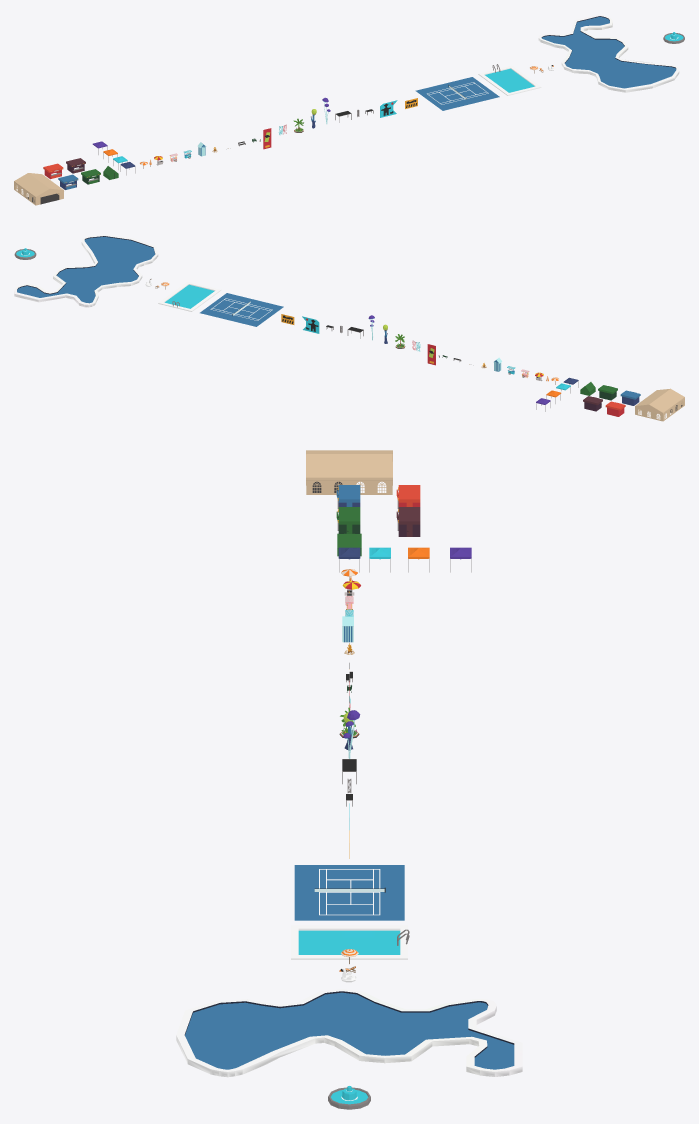
Rendered from scene-props.glb.
3 views of the same model, one above another, from view 1: azimuth 30°, elevation 25°; view 2: azimuth 150°, elevation 25°; view 3: azimuth 270°, elevation 25° (orthographic). The views are drawn at different scales.
Parts seen in each view (by area): view 1: resort-pool, pickleball-court, tent-party-big, tile-pool-small; view 2: resort-pool, pickleball-court, tent-party-big, tile-pool-small; view 3: resort-pool, pickleball-court, tile-pool-small, tent-party-big.
Boxes of the visible parts, left/top/right/bottom form: resort-pool: left=538, top=14, right=679, bottom=92; pickleball-court: left=415, top=77, right=499, bottom=110; tent-party-big: left=14, top=173, right=63, bottom=205; tile-pool-small: left=478, top=64, right=541, bottom=95; resort-pool: left=14, top=234, right=158, bottom=307; pickleball-court: left=200, top=293, right=283, bottom=326; tent-party-big: left=635, top=388, right=684, bottom=421; tile-pool-small: left=158, top=281, right=221, bottom=311; resort-pool: left=176, top=989, right=522, bottom=1077; pickleball-court: left=294, top=865, right=404, bottom=920; tile-pool-small: left=291, top=925, right=409, bottom=959; tent-party-big: left=306, top=450, right=392, bottom=494.
Bounding box in the file's own units: 210 × 10.75 × 47.98.
1 material, 1 textured.
